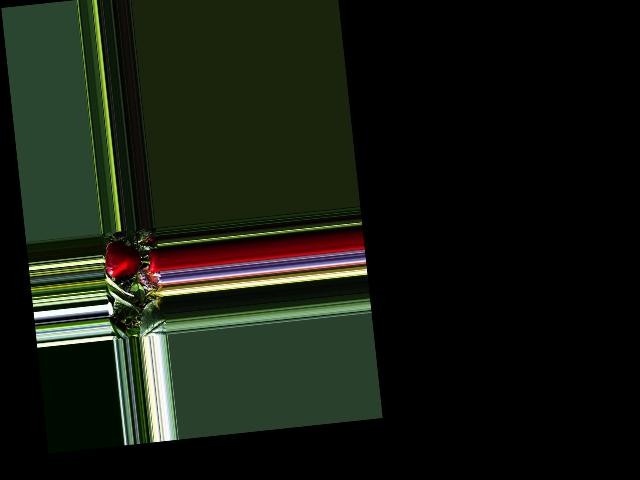bell_pepper: (144, 246, 161, 276)
